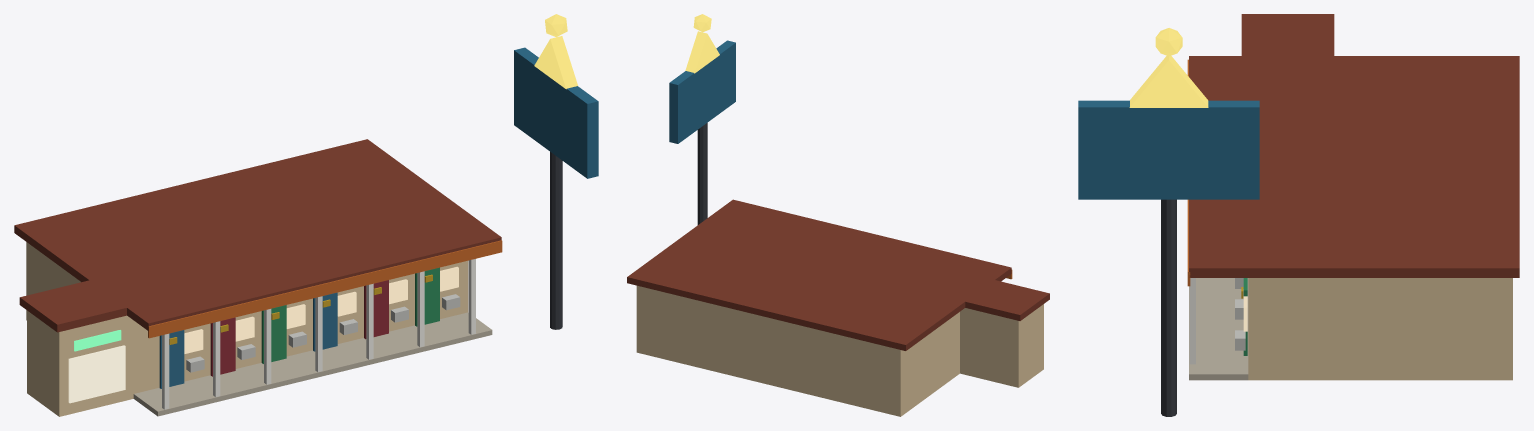
The model's file is motel.glb.
3 views of the same model, side by side, from view 1: azimuth 30°, elevation 25°; view 2: azimuth 150°, elevation 25°; view 3: azimuth 270°, elevation 25° (orthographic). The views are drawn at different scales.
Parts seen in each view (by area): view 1: part-roof, part-motel-wall, part-walkway, part-sign-frame, part-fascia, part-trim, part-office-glass, part-room-window, part-pole, part-room-door-0, part-room-door-1, part-room-door-2 (+3 smaller); view 2: part-roof, part-motel-wall, part-sign-frame, part-neon-yellow, part-pole; view 3: part-roof, part-motel-wall, part-sign-frame, part-walkway, part-pole, part-neon-yellow, part-trim, part-ac.
Boxes of the visible parts, bbox=[...] form: part-roof: bbox=[14, 139, 501, 332]; part-motel-wall: bbox=[26, 242, 468, 416]; part-walkway: bbox=[133, 312, 492, 416]; part-sign-frame: bbox=[514, 47, 598, 178]; part-fascia: bbox=[148, 240, 502, 338]; part-trim: bbox=[162, 259, 475, 409]; part-office-glass: bbox=[68, 345, 125, 403]; part-room-window: bbox=[184, 266, 458, 353]; part-pole: bbox=[550, 152, 562, 329]; part-room-door-0: bbox=[159, 292, 337, 388]; part-room-door-1: bbox=[210, 280, 388, 376]; part-room-door-2: bbox=[261, 267, 439, 363]; part-roof: bbox=[627, 199, 1049, 350]; part-motel-wall: bbox=[636, 285, 1043, 416]; part-sign-frame: bbox=[669, 40, 735, 143]; part-neon-yellow: bbox=[685, 14, 719, 73]; part-pole: bbox=[697, 123, 707, 224]; part-roof: bbox=[1189, 14, 1519, 277]; part-motel-wall: bbox=[1248, 278, 1512, 380]; part-sign-frame: bbox=[1078, 100, 1259, 199]; part-walkway: bbox=[1189, 278, 1248, 380]; part-pole: bbox=[1161, 199, 1176, 416]; part-neon-yellow: bbox=[1129, 28, 1208, 107]; part-trim: bbox=[1189, 278, 1195, 364]; part-ac: bbox=[1235, 278, 1245, 350].
Size of the model in its own units: 103 by 64.4 by 66.7.
